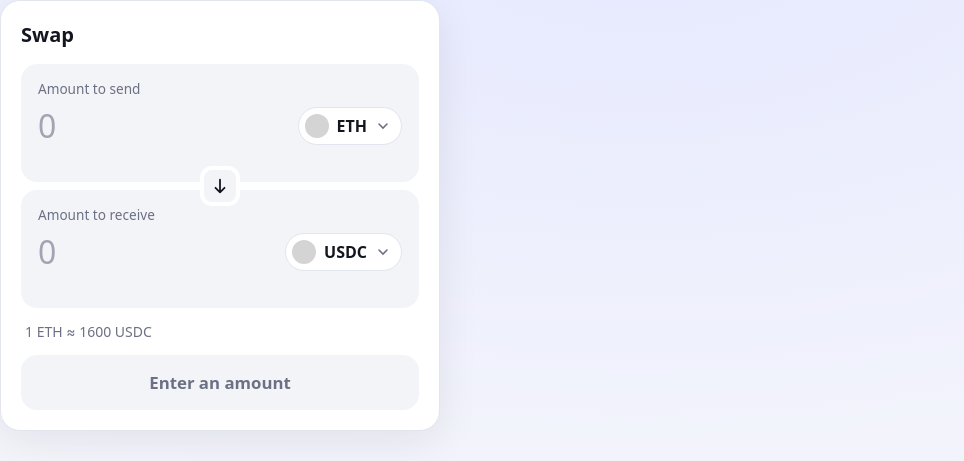
Test: SwapForm › flips tokens while keeping the typed amount on its token
The image size is (964, 461).
Type "2" into the field labelled "Amount to send" at (162, 126), box x1=38 y1=104 x2=286 y2=147
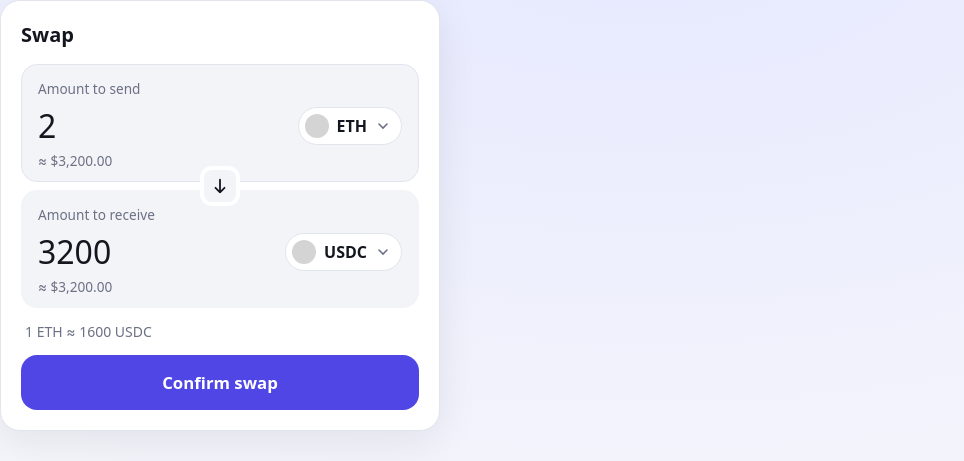
Click the button named "Switch send and receive tokens" at (220, 186), box x1=200 y1=166 x2=240 y2=206
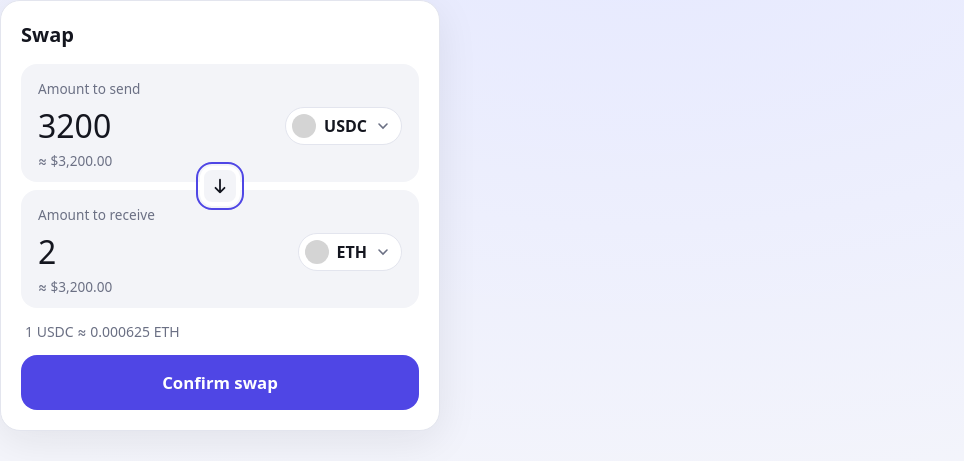
Expected: the button with aria-label "Token to send: USDC" is shown, x1=285 y1=106 x2=402 y2=144
Expected: the field labelled "Amount to send" holds "3200", x1=38 y1=104 x2=273 y2=147
Expected: the field labelled "Amount to receive" holds "2", x1=38 y1=230 x2=286 y2=273
